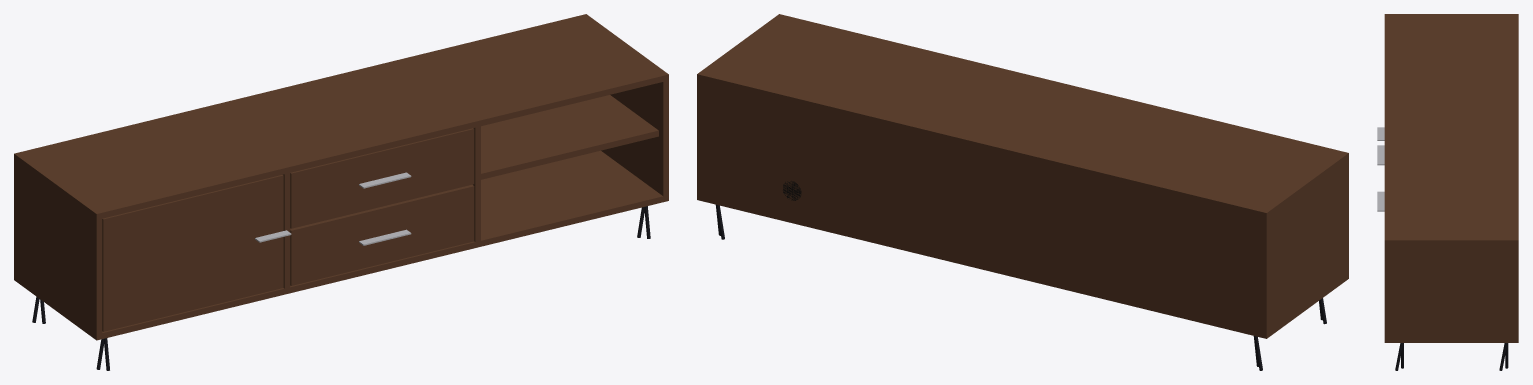
The model's file is 006_media_console_tv_stand.glb.
3 renders of one model, left to right at view 1: azimuth 30°, elevation 25°; view 2: azimuth 150°, elevation 25°; view 3: azimuth 270°, elevation 25°, orthographic. The views are drawn at different scales.
Visible parts, largest first — view 1: 014_carcass_top, 019_door_panel, 015_carcass_bottom, 012_carcass_side_l, 023_drawer_1_front, 030_drawer_2_front, 037_bay_shelf, 013_carcass_side_r, 017_vertical_divider, 018_vertical_divider; view 2: 016_carcass_back_panel, 014_carcass_top, 012_carcass_side_l, 013_carcass_side_r; view 3: 014_carcass_top, 013_carcass_side_r, 012_carcass_side_l, 029_drawer_1_pull_tab, 036_drawer_2_pull_tab.
Boxes of the visible parts, x1=… form: 014_carcass_top: x1=14, y1=14, x2=668, y2=219; 019_door_panel: x1=102, y1=175, x2=283, y2=331; 015_carcass_bottom: x1=102, y1=150, x2=663, y2=338; 012_carcass_side_l: x1=14, y1=152, x2=102, y2=340; 023_drawer_1_front: x1=290, y1=184, x2=474, y2=285; 030_drawer_2_front: x1=290, y1=128, x2=474, y2=228; 037_bay_shelf: x1=481, y1=95, x2=658, y2=179; 013_carcass_side_r: x1=581, y1=14, x2=668, y2=202; 017_vertical_divider: x1=283, y1=173, x2=290, y2=288; 018_vertical_divider: x1=473, y1=126, x2=480, y2=241; 016_carcass_back_panel: x1=702, y1=81, x2=1260, y2=337; 014_carcass_top: x1=697, y1=14, x2=1348, y2=218; 012_carcass_side_l: x1=1261, y1=152, x2=1348, y2=338; 013_carcass_side_r: x1=697, y1=14, x2=784, y2=201; 014_carcass_top: x1=1384, y1=14, x2=1518, y2=244; 013_carcass_side_r: x1=1384, y1=238, x2=1518, y2=342; 012_carcass_side_l: x1=1384, y1=14, x2=1518, y2=16; 029_drawer_1_pull_tab: x1=1377, y1=191, x2=1384, y2=211; 036_drawer_2_pull_tab: x1=1377, y1=145, x2=1384, y2=165.
Bounding box in the file's own units: 1.8 × 0.5009 × 0.475.
